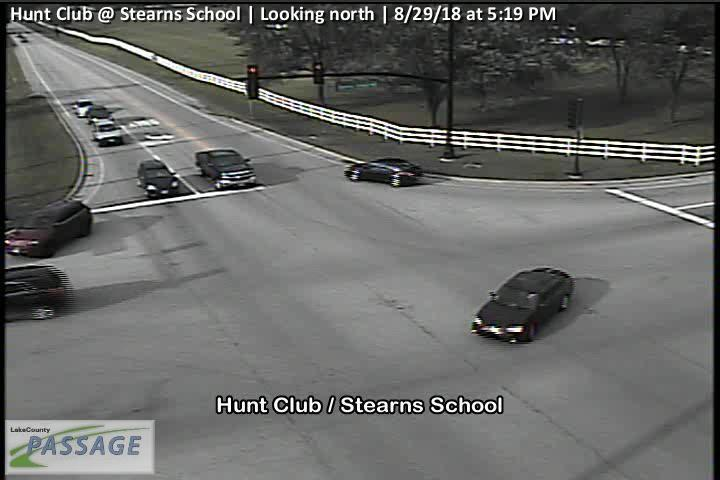SUV: (2, 198, 93, 259)
Sedan: (470, 266, 576, 344), (196, 147, 256, 190), (343, 157, 422, 187), (134, 159, 180, 198), (89, 120, 123, 147), (84, 105, 114, 124), (70, 98, 95, 117)
